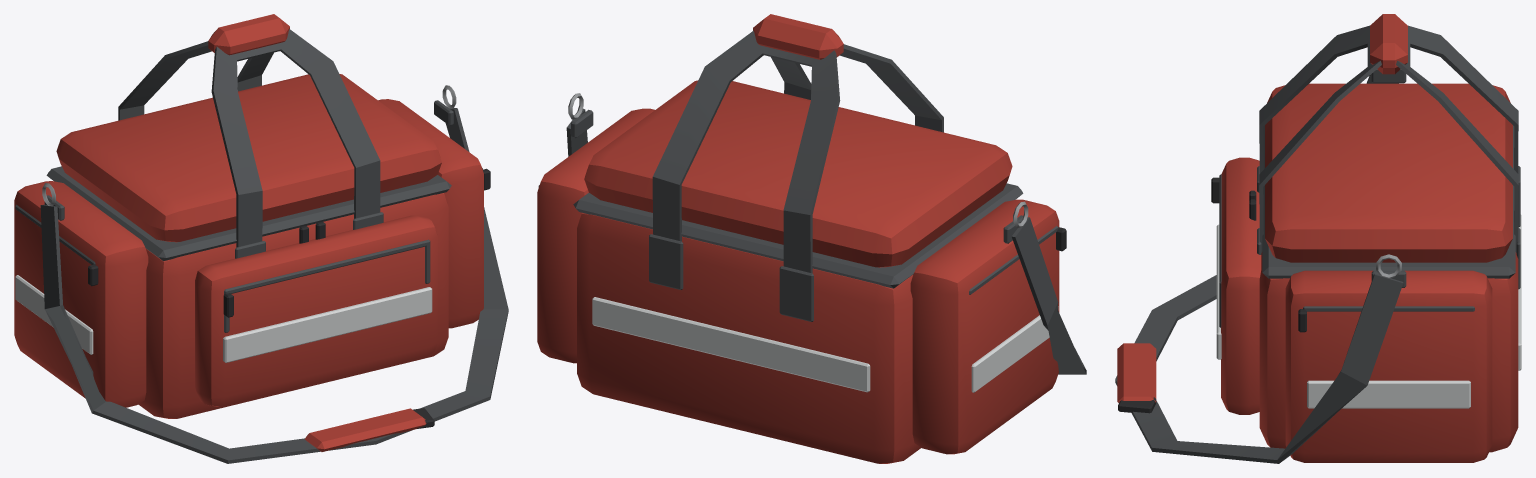
Rendered from MedicalBag.fbx.
The picture shows the model from 3 angles, left to right: view 1: azimuth 30°, elevation 25°; view 2: azimuth 150°, elevation 25°; view 3: azimuth 270°, elevation 25°; orthographic projection. The views are drawn at different scales.
Visible parts, largest first — view 1: MedicalBag_Mesh; view 2: MedicalBag_Mesh; view 3: MedicalBag_Mesh.
Part boxes in pixels (x1=…): MedicalBag_Mesh: x1=14, y1=14, x2=508, y2=463; MedicalBag_Mesh: x1=537, y1=14, x2=1086, y2=463; MedicalBag_Mesh: x1=1115, y1=14, x2=1521, y2=463.
Bounding box in the file's own units: 0.619 × 0.458 × 0.4715.
